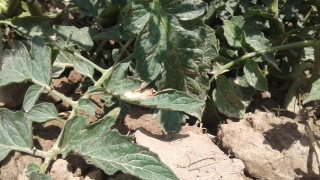tomato diseased leaf: (112, 68, 201, 132)
tomato plant: (4, 4, 107, 144), (124, 4, 311, 53)
